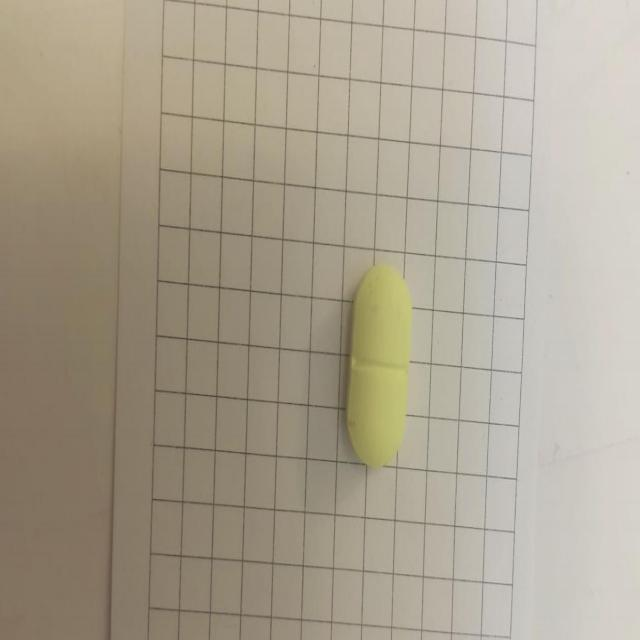pill: (344, 256, 414, 472)
